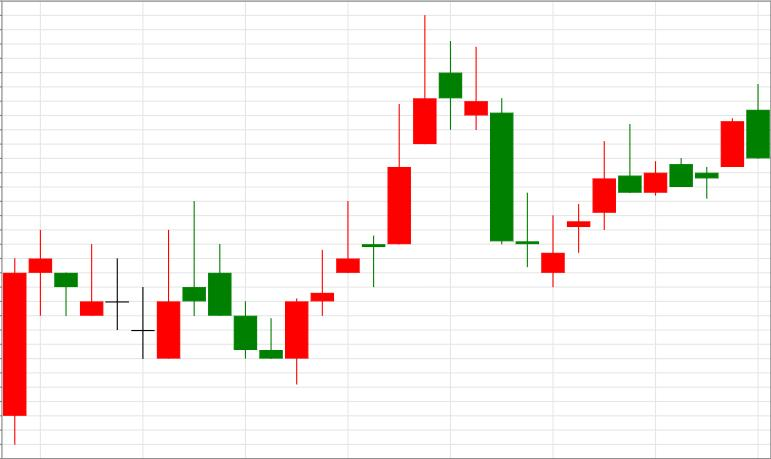bullish_engulfing_rise: (183, 201, 309, 385)
inverse_hammer_rise: (439, 41, 564, 287)
shooting_star_fall: (284, 14, 437, 384)
